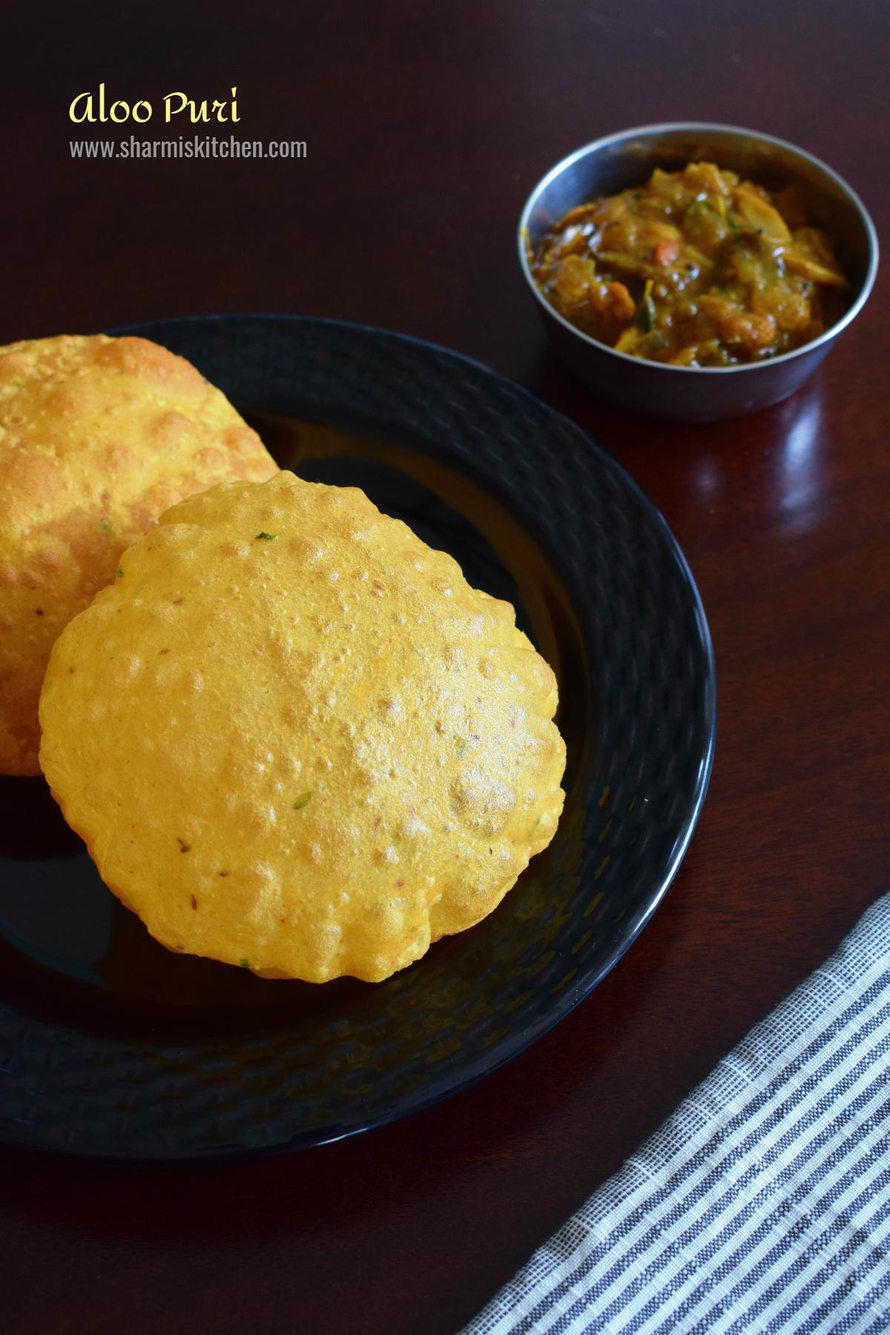puri: (15, 334, 556, 1038)
